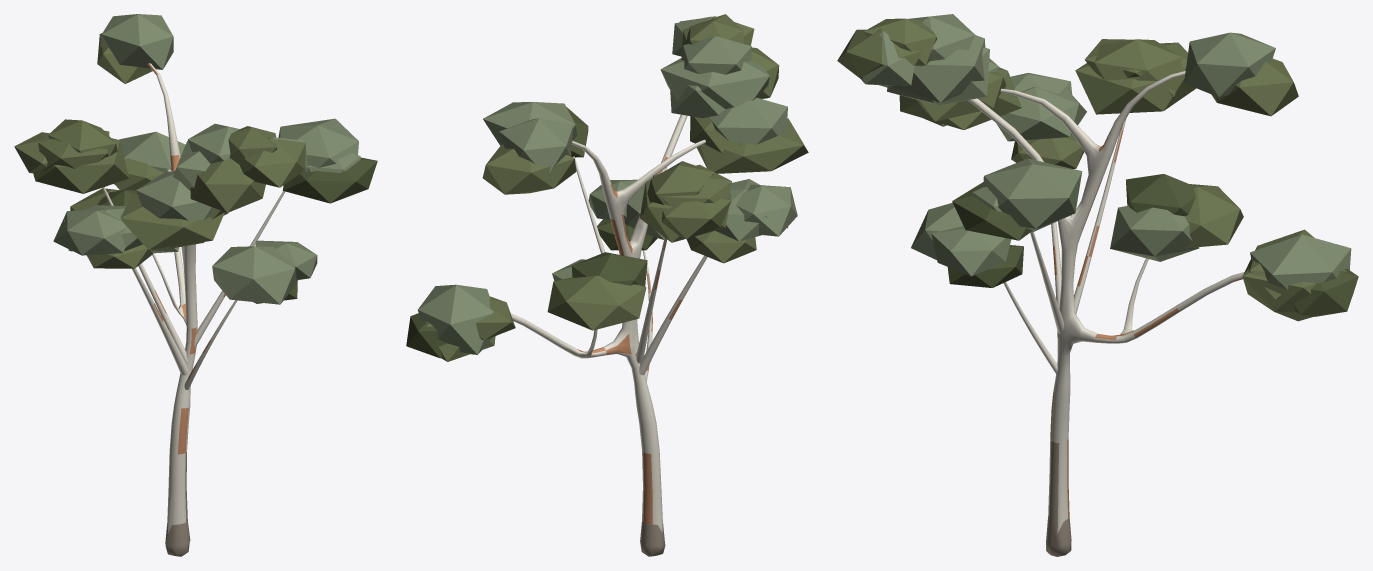
Rendered from eucalyptus.glb.
3 renders of one model, left to right at view 1: azimuth 30°, elevation 25°; view 2: azimuth 150°, elevation 25°; view 3: azimuth 270°, elevation 25°, orthographic. The views are drawn at different scales.
Visible parts, largest first — view 1: Eucalyptus_Canopy, Eucalyptus_Trunk; view 2: Eucalyptus_Canopy, Eucalyptus_Trunk; view 3: Eucalyptus_Canopy, Eucalyptus_Trunk.
Boxes of the visible parts, box(x1,y1,x2,y2) form: Eucalyptus_Canopy: box(14, 14, 377, 304); Eucalyptus_Trunk: box(102, 63, 285, 556); Eucalyptus_Canopy: box(406, 14, 808, 361); Eucalyptus_Trunk: box(510, 114, 707, 556); Eucalyptus_Canopy: box(837, 14, 1358, 321); Eucalyptus_Trunk: box(967, 71, 1244, 556).
Size of the model in its own units: 13.33 by 20.74 by 18.08.
